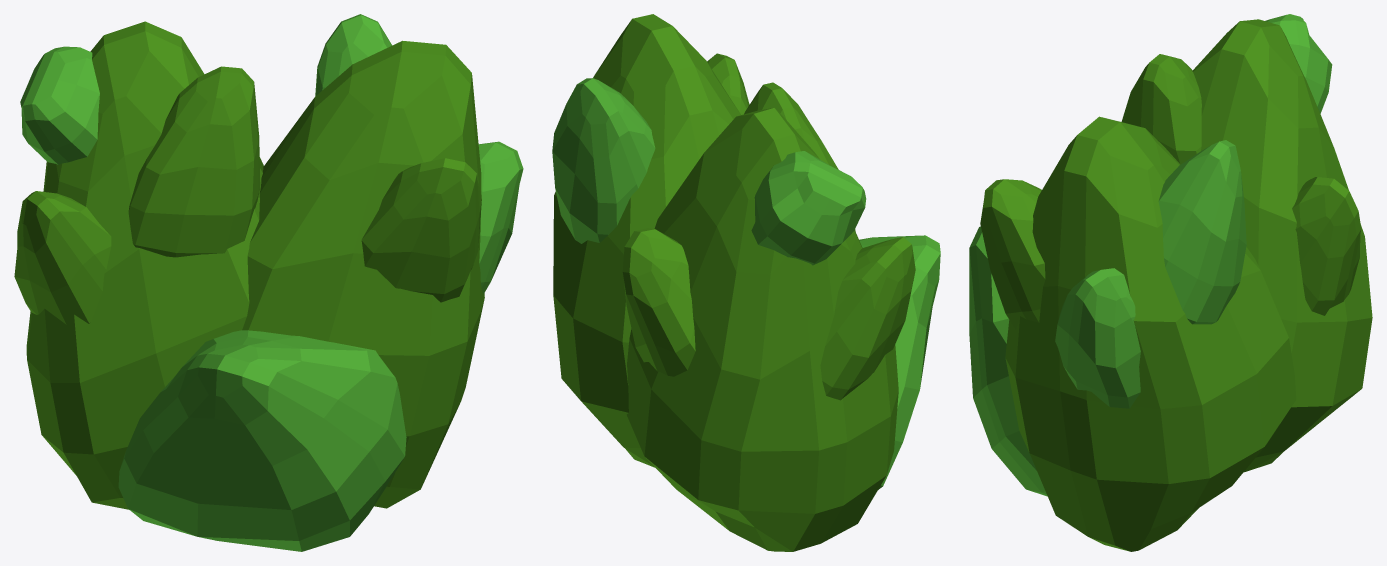
The model's file is Bush.FBX.
3 views of the same model, side by side, from view 1: azimuth 30°, elevation 25°; view 2: azimuth 150°, elevation 25°; view 3: azimuth 270°, elevation 25° (orthographic). The views are drawn at different scales.
Parts seen in each view (by area): view 1: Brush; view 2: Brush; view 3: Brush.
Boxes of the visible parts, x1,y1,x2,y2 form: Brush: [14, 14, 523, 551]; Brush: [552, 14, 940, 551]; Brush: [969, 14, 1372, 551].
Size of the model in its own units: 68.44 by 71.56 by 58.44.
